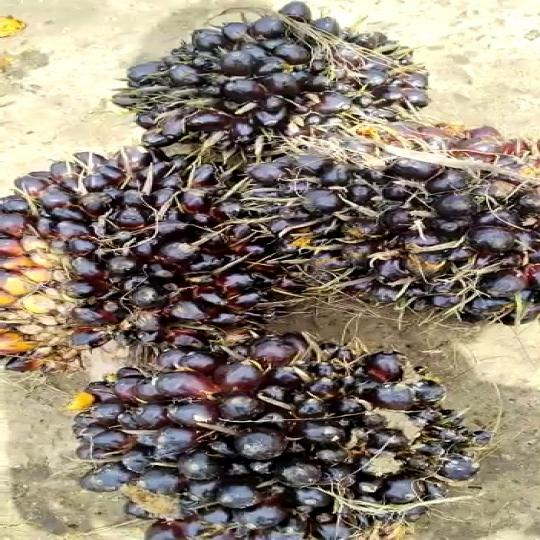mentah: (64, 331, 510, 540), (0, 140, 313, 384), (225, 124, 540, 316), (114, 0, 466, 155)
